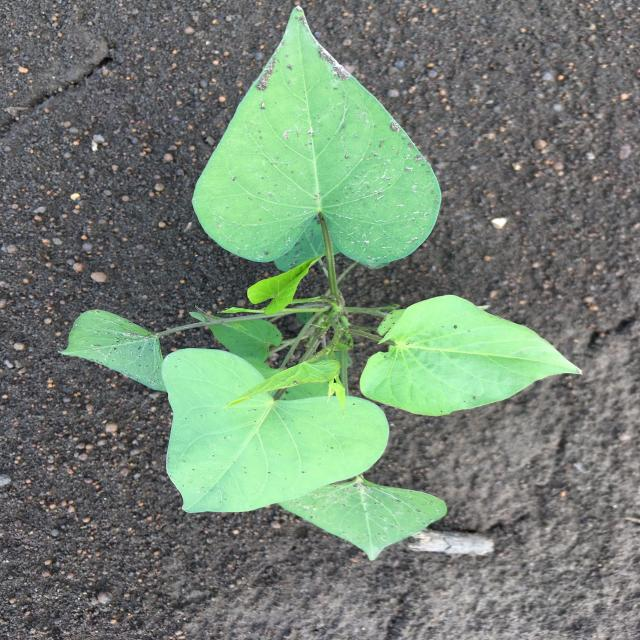MorningGlory: (58, 4, 581, 560)
